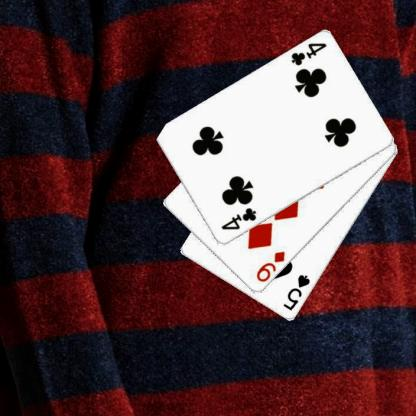4C: (218, 205, 258, 232), (288, 41, 328, 67)
5S: (281, 272, 311, 312)
9D: (254, 248, 286, 284)
